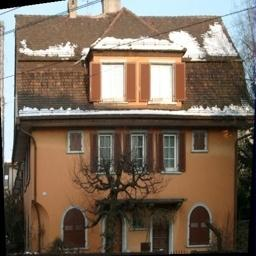building: (13, 13, 256, 256)
